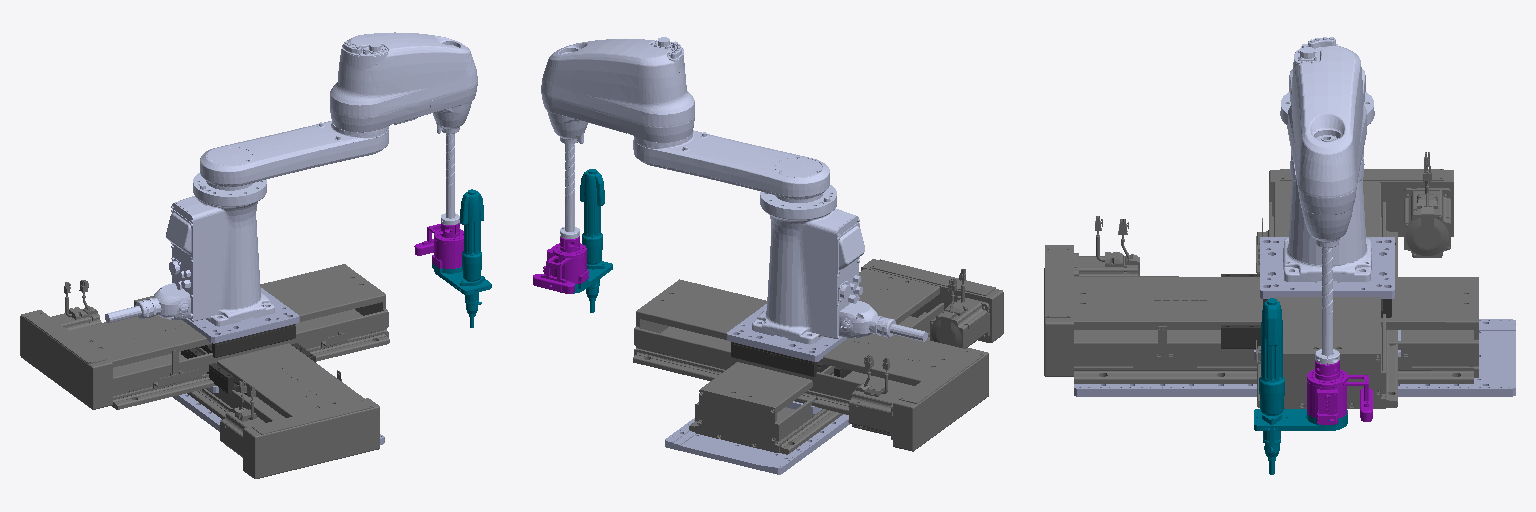
The robot description file, URDF, robot "base_DENSO":
<?xml version="1.0" encoding="UTF-8"?>
<robot name="base_DENSO">
	<link name="world" />
	<link name="base_DENSO">
		<visual>
			<geometry>
				<mesh filename="package://keti_workcell_description/meshes/base1.STL" />
			</geometry>
			<material name="">
				<color rgba="0.89 0.91 0.93 1" />
			</material>
		</visual>
	</link>
	<link name="add_axis_jig1">
		<visual>
			<geometry>
				<mesh filename="package://keti_workcell_description/meshes/add_axis_jig1.STL" />
			</geometry>
			<material name="">
				<color rgba="0.69 0.71 0.83 1" />
			</material>
		</visual>
	</link>
	<link name="slider_base1">
		<visual>
			<geometry>
				<mesh filename="package://keti_workcell_description/meshes/slider_base.STL" />
			</geometry>
			<material name="">
				<color rgba="0.5 0.5 0.5 1" />
			</material>
		</visual>
	</link>
	<link name="slider1">
		<visual>
			<geometry>
				<mesh filename="package://keti_workcell_description/meshes/slider.STL" />
			</geometry>
			<material name="">
				<color rgba="0.3 0.3 0.3 1" />
			</material>
		</visual>
	</link>
	<link name="add_axis_jig2">
		<visual>
			<geometry>
				<mesh filename="package://keti_workcell_description/meshes/add_axis_jig2.STL" />
			</geometry>
			<material name="">
				<color rgba="0.69 0.71 0.83 1" />
			</material>
		</visual>
	</link>
	<link name="slider_base2">
		<visual>
			<geometry>
				<mesh filename="package://keti_workcell_description/meshes/slider_base.STL" />
			</geometry>
			<material name="">
				<color rgba="0.5 0.5 0.5 1" />
			</material>
		</visual>
	</link>
	<link name="slider2">
		<visual>
			<geometry>
				<mesh filename="package://keti_workcell_description/meshes/slider.STL" />
			</geometry>
			<material name="">
				<color rgba="0.3 0.3 0.3 1" />
			</material>
		</visual>
	</link>
	<link name="DENSO_jig">
		<visual>
			<geometry>
				<mesh filename="package://keti_workcell_description/meshes/DENSO_jig.STL" />
			</geometry>
			<material name="">
				<color rgba="0.69 0.71 0.83 1" />
			</material>
		</visual>
	</link>
	<link name="d_link0">
		<visual>
			<geometry>
				<mesh filename="package://keti_workcell_description/meshes/DENSO/d_link0.STL" />
			</geometry>
			<material name="">
				<color rgba="0.79216 0.81961 0.93333 1" />
			</material>
		</visual>
	</link>
	<link name="d_link1">
		<visual>
			<geometry>
				<mesh filename="package://keti_workcell_description/meshes/DENSO/d_link1.STL" />
			</geometry>
			<material name="">
				<color rgba="0.79216 0.81961 0.93333 1" />
			</material>
		</visual>
	</link>
	<link name="d_link2">
		<visual>
			<geometry>
				<mesh filename="package://keti_workcell_description/meshes/DENSO/d_link2.STL" />
			</geometry>
			<material name="">
				<color rgba="0.79216 0.81961 0.93333 1" />
			</material>
		</visual>
	</link>
	<link name="d_link3">
		<visual>
			<geometry>
				<mesh filename="package://keti_workcell_description/meshes/DENSO/d_link3.STL" />
			</geometry>
			<material name="">
				<color rgba="0.79216 0.81961 0.93333 1" />
			</material>
		</visual>
	</link>
	<link name="d_end" />
	<link name="denso_tool_changer">
		<visual>
			<geometry>
				<mesh filename="package://keti_workcell_description/meshes/denso_tool_changer.STL" />
			</geometry>
			<material name="">
				<color rgba="0.6587 0.128 0.778 1" />
			</material>
		</visual>
	</link>
	<link name="ATC">
		<visual>
			<geometry>
				<mesh filename="package://keti_workcell_description/meshes/ATC.STL" />
			</geometry>
			<material name="">
				<color rgba="0.0 0.5 0.6 1" />
			</material>
		</visual>
	</link>
	<joint name="base_DENSO_fixed" type="fixed">
		<origin xyz="-0.80034 0.81298 0" rpy="0 0 -1.5708" />
		<parent link="world" />
		<child link="base_DENSO" />
	</joint>
	<joint name="add_axis_jig1_fixed" type="fixed">
		<origin xyz="-0.02489 0.17061 0.8315" rpy="0 0 0" />
		<parent link="base_DENSO" />
		<child link="add_axis_jig1" />
	</joint>
	<joint name="slider_base1_fixed" type="fixed">
		<origin xyz="0.37507 0 0.05482" rpy="1.5709 0 -1.5709" />
		<parent link="add_axis_jig1" />
		<child link="slider_base1" />
	</joint>
	<joint name="s1" type="prismatic">
		<origin xyz="0 0 0" rpy="0 0 0" />
		<parent link="slider_base1" />
		<child link="slider1" />
		<axis xyz="0 0 1" />
		<limit lower="0.05" upper="0.45" effort="100" velocity="10" />
	</joint>
	<joint name="add_axis_jig2_fixed" type="fixed">
		<origin xyz="0 0 0.1807" rpy="-1.5709 0 0" />
		<parent link="slider1" />
		<child link="add_axis_jig2" />
	</joint>
	<joint name="slider_base2_fixed" type="fixed">
		<origin xyz="0.35 0 0.05482" rpy="1.5709 0 -1.5709" />
		<parent link="add_axis_jig2" />
		<child link="slider_base2" />
	</joint>
	<joint name="s2" type="prismatic">
		<origin xyz="-0 0 0" rpy="0 0 0" />
		<parent link="slider_base2" />
		<child link="slider2" />
		<axis xyz="0 0 1" />
		<limit lower="0.05" upper="0.45" effort="100" velocity="10" />
	</joint>
	<joint name="DENSO_jig_fixed" type="fixed">
		<origin xyz="0 0.06276 0.1" rpy="-1.5709 0 0" />
		<parent link="slider2" />
		<child link="DENSO_jig" />
	</joint>
	<joint name="d_link0_fixed" type="fixed">
		<origin xyz="0 0 0" rpy="0 0 -1.5709" />
		<parent link="DENSO_jig" />
		<child link="d_link0" />
	</joint>
	<joint name="d_q1" type="revolute">
		<origin xyz="0 0 0.37011" rpy="0 0 0" />
		<parent link="d_link0" />
		<child link="d_link1" />
		<axis xyz="0 0 1" />
		<limit lower="-3.14" upper="3.14" effort="100" velocity="10" />
	</joint>
	<joint name="d_q2" type="revolute">
		<origin xyz="0.325 0 0" rpy="0 0 0" />
		<parent link="d_link1" />
		<child link="d_link2" />
		<axis xyz="0 0 1" />
		<limit lower="-3.14" upper="3.14" effort="100" velocity="10" />
	</joint>
	<joint name="d_q3" type="prismatic">
		<origin xyz="0.225 0 0" rpy="3.1416 0 0" />
		<parent link="d_link2" />
		<child link="d_link3" />
		<axis xyz="0 0 1" />
		<limit lower="-0.206" upper="0.0" effort="100" velocity="10" />
	</joint>
	<joint name="d_q3_to_end" type="fixed">
		<origin xyz="0 0 0.32900" rpy="3.1416 0 0" />
		<parent link="d_link3" />
		<child link="d_end" />
	</joint>
	<joint name="d_q4" type="revolute">
		<origin xyz="0 0 -0.001" rpy="0 0 0" />
		<parent link="d_end" />
		<child link="denso_tool_changer" />
		<axis xyz="0 0 1" />
		<limit lower="-3.14" upper="3.14" effort="100" velocity="10" />
	</joint>
	<joint name="denso_tool_changer_to_ATC" type="fixed">
		<origin xyz="0 0 -0.06" rpy="3.1416 0 -1.5709" />
		<parent link="denso_tool_changer" />
		<child link="ATC" />
	</joint>
</robot>

--- Facts derived from the render (not from the file) ---
Views: 3 orthographic renders of the robot side by side, from view 1: azimuth 30°, elevation 25°; view 2: azimuth 150°, elevation 25°; view 3: azimuth 270°, elevation 25°.
Robot: base_DENSO — 16 links, 15 joints (3 revolute, 3 prismatic, 9 fixed); root link world; default pose: joints at zero except 2 at the middle of their limits (s1 = 0.25, s2 = 0.25).
Visible links, largest first — view 1: slider_base2, slider_base1, d_link0, d_link2, d_link1, ATC, DENSO_jig, denso_tool_changer, slider2, d_link3, slider1, add_axis_jig1; view 2: slider_base2, slider_base1, d_link0, d_link2, d_link1, add_axis_jig1, ATC, denso_tool_changer, DENSO_jig, slider2, d_link3; view 3: slider_base1, slider_base2, d_link2, add_axis_jig1, d_link0, ATC, DENSO_jig, denso_tool_changer, d_link3, slider1.
Link boxes in pixels (x1=…): slider_base2: x1=20, y1=264, x2=389, y2=409; slider_base1: x1=134, y1=296, x2=379, y2=478; d_link0: x1=105, y1=173, x2=274, y2=326; d_link2: x1=330, y1=32, x2=477, y2=133; d_link1: x1=200, y1=121, x2=388, y2=190; ATC: x1=432, y1=189, x2=491, y2=327; DENSO_jig: x1=181, y1=288, x2=299, y2=343; denso_tool_changer: x1=414, y1=223, x2=463, y2=268; slider2: x1=199, y1=324, x2=295, y2=357; d_link3: x1=441, y1=45, x2=459, y2=224; slider1: x1=181, y1=343, x2=315, y2=396; add_axis_jig1: x1=173, y1=393, x2=384, y2=444; slider_base2: x1=633, y1=279, x2=988, y2=451; slider_base1: x1=689, y1=259, x2=1003, y2=454; d_link0: x1=752, y1=185, x2=927, y2=344; d_link2: x1=541, y1=37, x2=694, y2=143; d_link1: x1=633, y1=130, x2=829, y2=202; add_axis_jig1: x1=665, y1=414, x2=849, y2=474; ATC: x1=560, y1=169, x2=612, y2=312; denso_tool_changer: x1=533, y1=236, x2=588, y2=293; DENSO_jig: x1=727, y1=304, x2=846, y2=361; slider2: x1=731, y1=342, x2=829, y2=376; d_link3: x1=560, y1=52, x2=579, y2=238; slider_base1: x1=1044, y1=216, x2=1478, y2=383; slider_base2: x1=1256, y1=152, x2=1453, y2=408; d_link2: x1=1287, y1=37, x2=1366, y2=247; add_axis_jig1: x1=1074, y1=319, x2=1515, y2=396; d_link0: x1=1280, y1=92, x2=1374, y2=282; ATC: x1=1254, y1=298, x2=1347, y2=474; DENSO_jig: x1=1260, y1=237, x2=1394, y2=298; denso_tool_changer: x1=1307, y1=360, x2=1372, y2=424; d_link3: x1=1315, y1=135, x2=1339, y2=364; slider1: x1=1221, y1=274, x2=1260, y2=348.
Bounding box of the posed robot: 1.01 × 0.8 × 0.7454 m (x, y, z).
13 mesh visuals loaded from 12 distinct referenced files (11 binary STL); not drawn: 1 (reference not matched to a file when rendering).